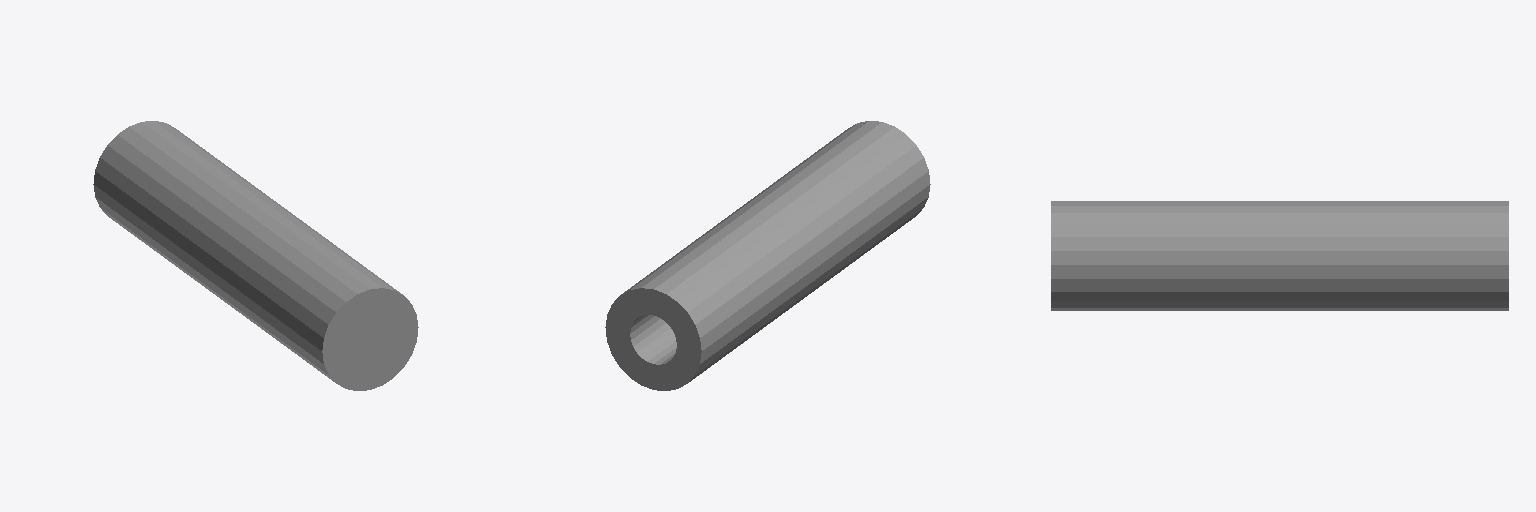
File: komora_centered.obj
3 views of the same model, side by side, from view 1: azimuth 30°, elevation 25°; view 2: azimuth 150°, elevation 25°; view 3: azimuth 270°, elevation 25° (orthographic).
Parts seen in each view (by area): view 1: animacija-GRP-126643-Default_Material; view 2: animacija-GRP-126643-Default_Material; view 3: animacija-GRP-126643-Default_Material.
Boxes of the visible parts, x1=… form: animacija-GRP-126643-Default_Material: x1=93, y1=121, x2=418, y2=390; animacija-GRP-126643-Default_Material: x1=605, y1=121, x2=930, y2=390; animacija-GRP-126643-Default_Material: x1=1051, y1=201, x2=1508, y2=310.
Size of the model in its own units: 0.144 by 0.144 by 0.593.